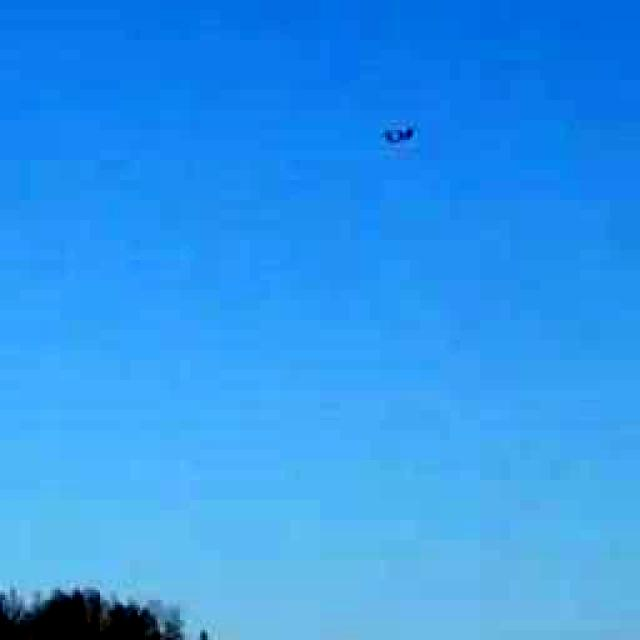bird: (370, 109, 430, 166)
